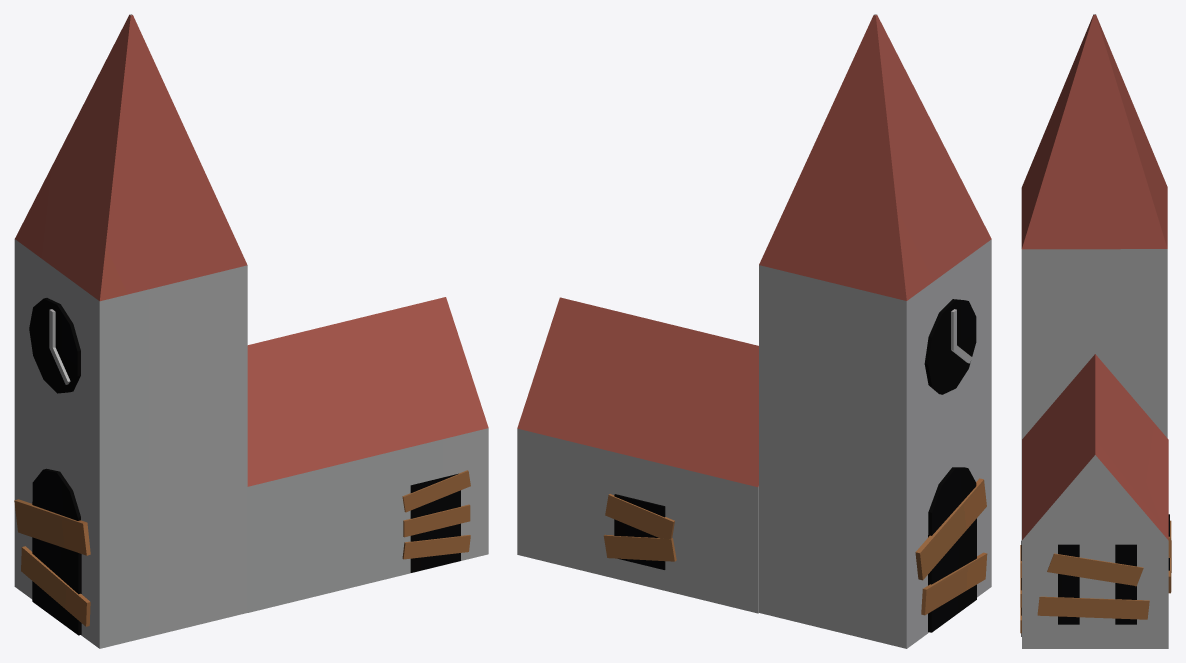
File: Chrunch.glb
The picture shows the model from 3 angles, left to right: view 1: azimuth 30°, elevation 25°; view 2: azimuth 150°, elevation 25°; view 3: azimuth 270°, elevation 25°; orthographic projection. The views are drawn at different scales.
Visible parts, largest first — view 1: Cube.005; view 2: Cube.005; view 3: Cube.005.
Part boxes in pixels (box(x1,y1,x2,y2)): Cube.005: box(14, 14, 488, 648); Cube.005: box(517, 14, 991, 648); Cube.005: box(1020, 14, 1171, 648).
Bounding box in the file's own units: 5.38 × 7.56 × 2.07.
3 materials, 3 textured.
